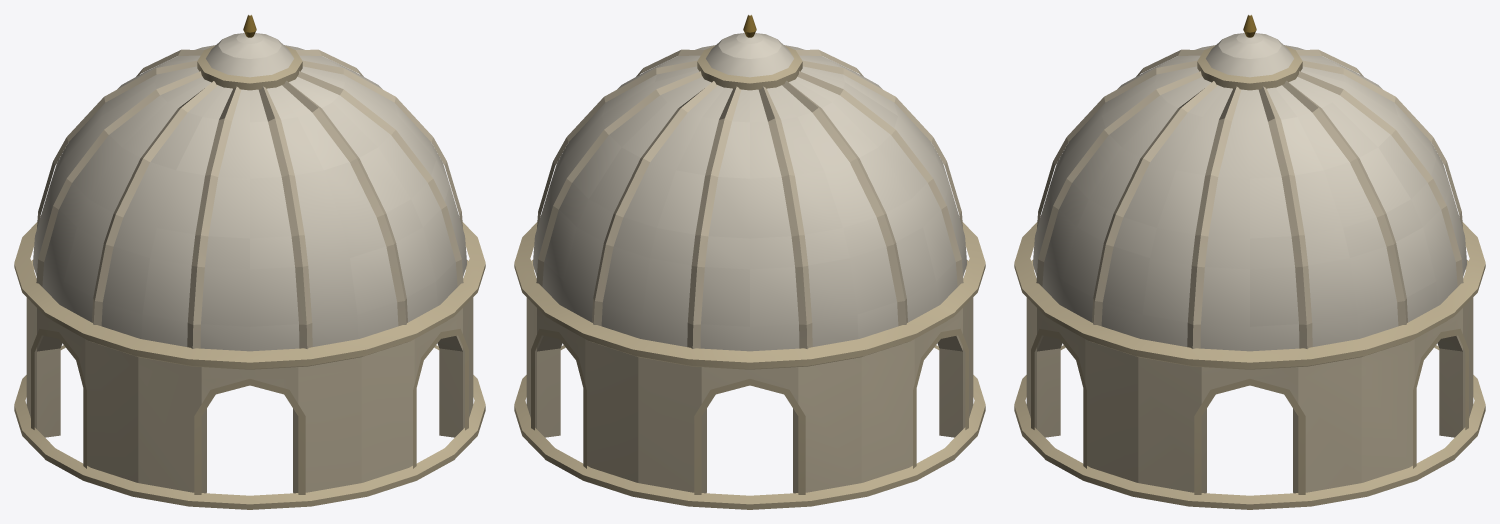
The model's file is dome.whole_12.plaster.glb.
3 renders of one model, left to right at view 1: azimuth 30°, elevation 25°; view 2: azimuth 150°, elevation 25°; view 3: azimuth 270°, elevation 25°, orthographic.
Visible parts, largest first — view 1: dome_whole_12_plaster; view 2: dome_whole_12_plaster; view 3: dome_whole_12_plaster.
Boxes of the visible parts, x1,y1,x2,y2 form: dome_whole_12_plaster: [14, 15, 485, 509]; dome_whole_12_plaster: [514, 15, 985, 509]; dome_whole_12_plaster: [1014, 15, 1485, 509].
Size of what is drawn, in the model's own units: 7.6 by 7.03 by 7.6.
